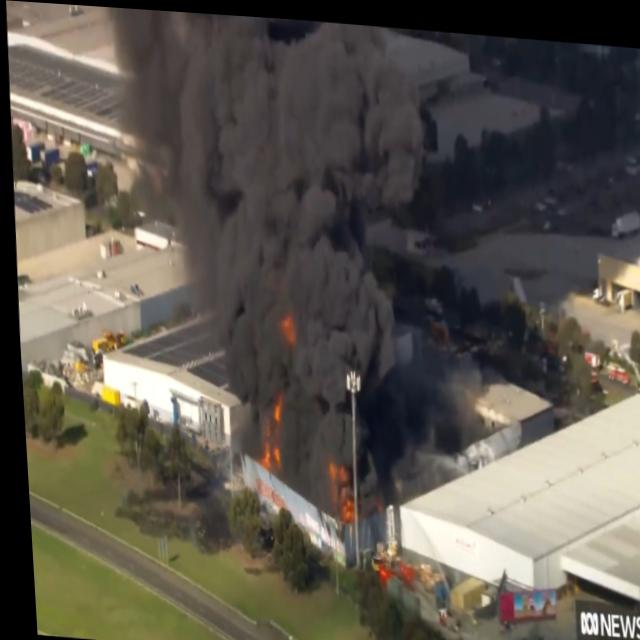Fire: (251, 381, 280, 466), (320, 451, 358, 513), (269, 301, 307, 359)
